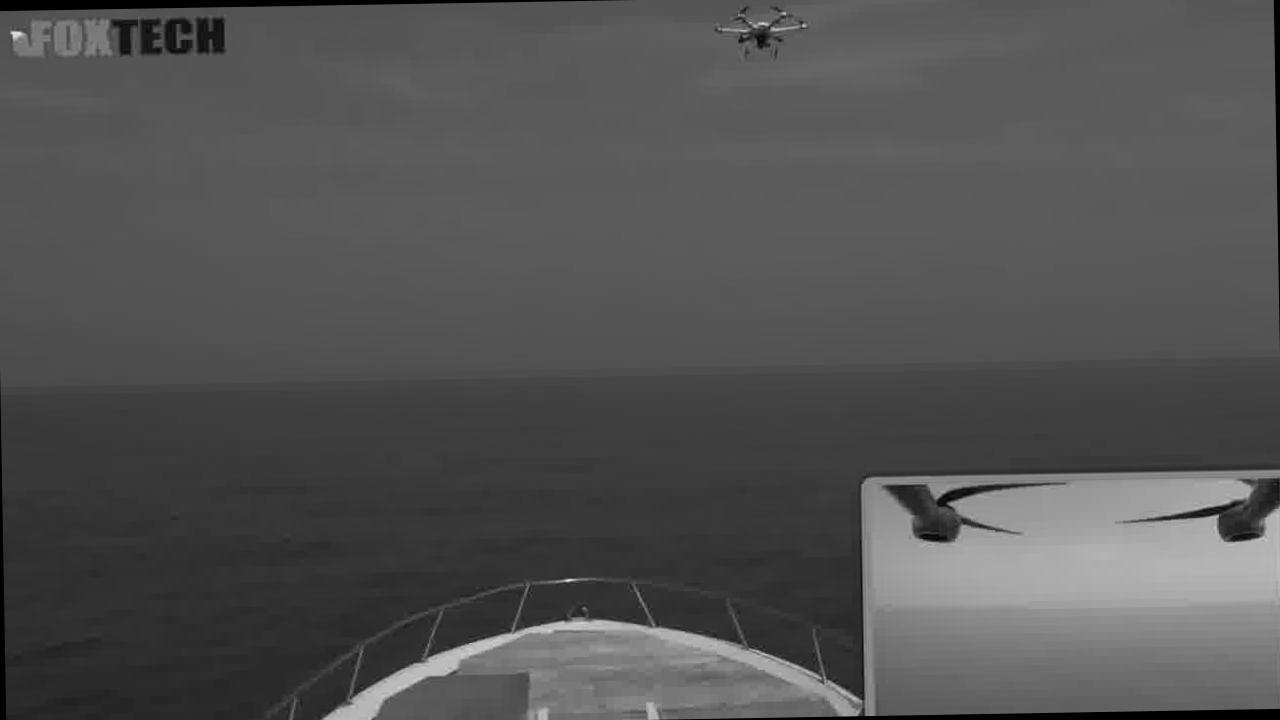drone: (705, 3, 817, 70)
